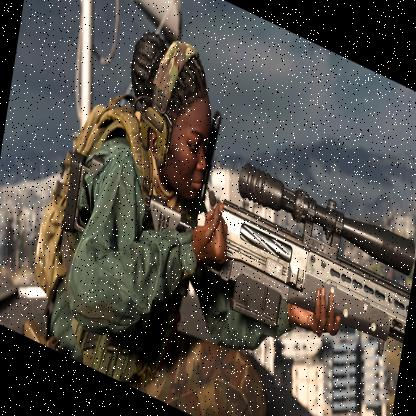rifle: (64, 78, 416, 400)
